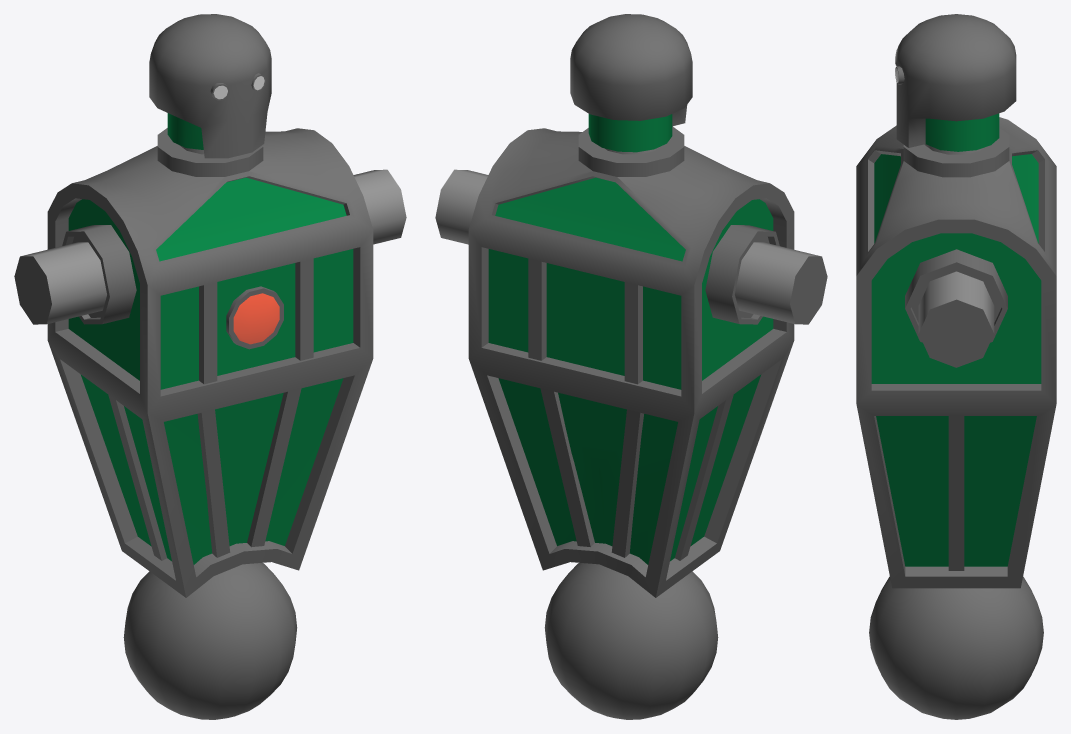
File: Robot_tron.fbx
3 renders of one model, left to right at view 1: azimuth 30°, elevation 25°; view 2: azimuth 150°, elevation 25°; view 3: azimuth 270°, elevation 25°, orthographic.
Visible parts, largest first — view 1: Corps_high, Spehre_high, tete_high, barreaux_high; view 2: Corps_high, Spehre_high, tete_high, barreaux_high; view 3: Corps_high, Spehre_high, tete_high, barreaux_high.
Boxes of the visible parts, bbox=[...] form: Corps_high: bbox=[14, 128, 406, 597]; Spehre_high: bbox=[123, 563, 297, 719]; tete_high: bbox=[149, 14, 271, 158]; barreaux_high: bbox=[108, 258, 313, 560]; Corps_high: bbox=[435, 126, 827, 597]; Spehre_high: bbox=[544, 563, 718, 719]; tete_high: bbox=[570, 14, 692, 152]; barreaux_high: bbox=[528, 258, 733, 560]; Corps_high: bbox=[856, 117, 1056, 588]; Spehre_high: bbox=[869, 576, 1043, 719]; tete_high: bbox=[896, 14, 1016, 151]; barreaux_high: bbox=[948, 416, 964, 570].
Bounding box in the file's own units: 2.65 × 4.93 × 1.3.
